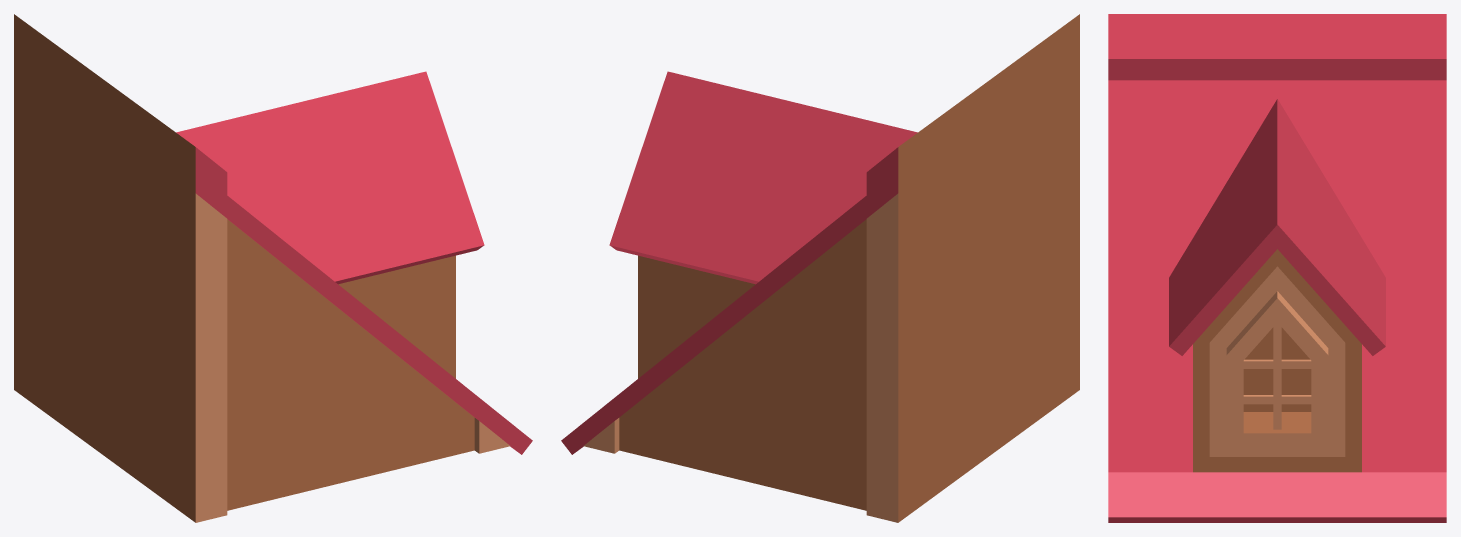
Rendered from roofHighWindow.glb.
3 views of the same model, side by side, from view 1: azimuth 30°, elevation 25°; view 2: azimuth 150°, elevation 25°; view 3: azimuth 270°, elevation 25° (orthographic). The views are drawn at different scales.
Visible parts, largest first — view 1: roofHighWindow; view 2: roofHighWindow; view 3: roofHighWindow.
Part boxes in pixels (x1=…): roofHighWindow: x1=14, y1=14, x2=532, y2=522; roofHighWindow: x1=561, y1=14, x2=1079, y2=522; roofHighWindow: x1=1108, y1=14, x2=1446, y2=522.
Bounding box in the file's own units: 1.07 × 1.18 × 1.
